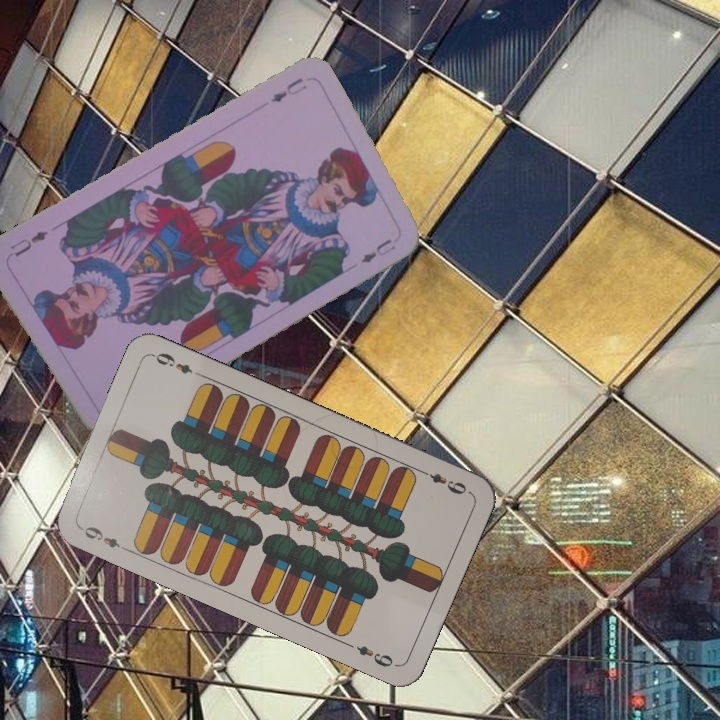E9: (416, 465, 472, 498), (75, 522, 131, 554)
EU: (267, 73, 309, 105)
